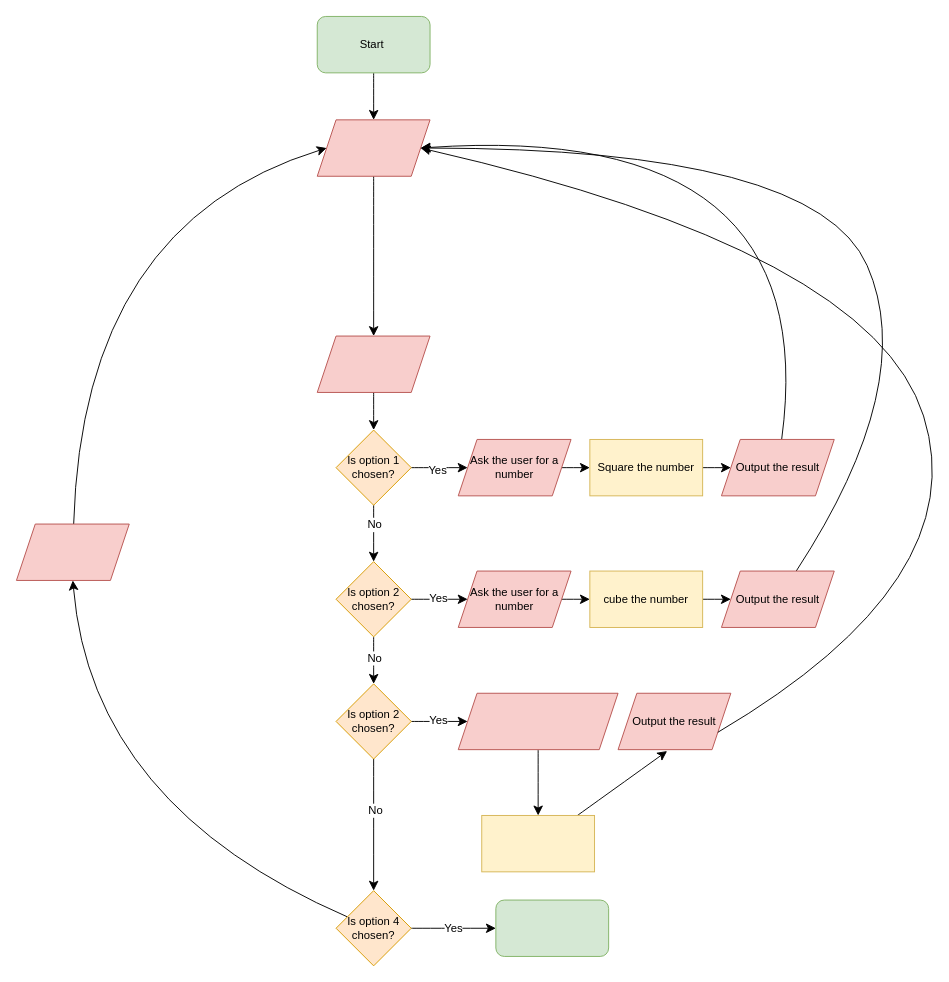
Image size: 949x982. Some labels were removed from this diagram. Each missing label, with the centre of its shape:
Ask the user for a number and a power: (x=537, y=721)
Exit: (x=552, y=927)
Get user input for an option: (x=373, y=363)
Output the menu: (x=373, y=147)
Please choose a proper option: (x=72, y=551)
raise the input number by the input power: (x=538, y=843)
